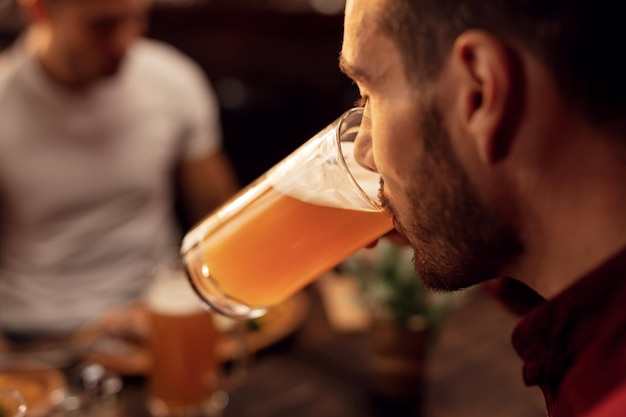alcohol: (180, 105, 398, 322)
